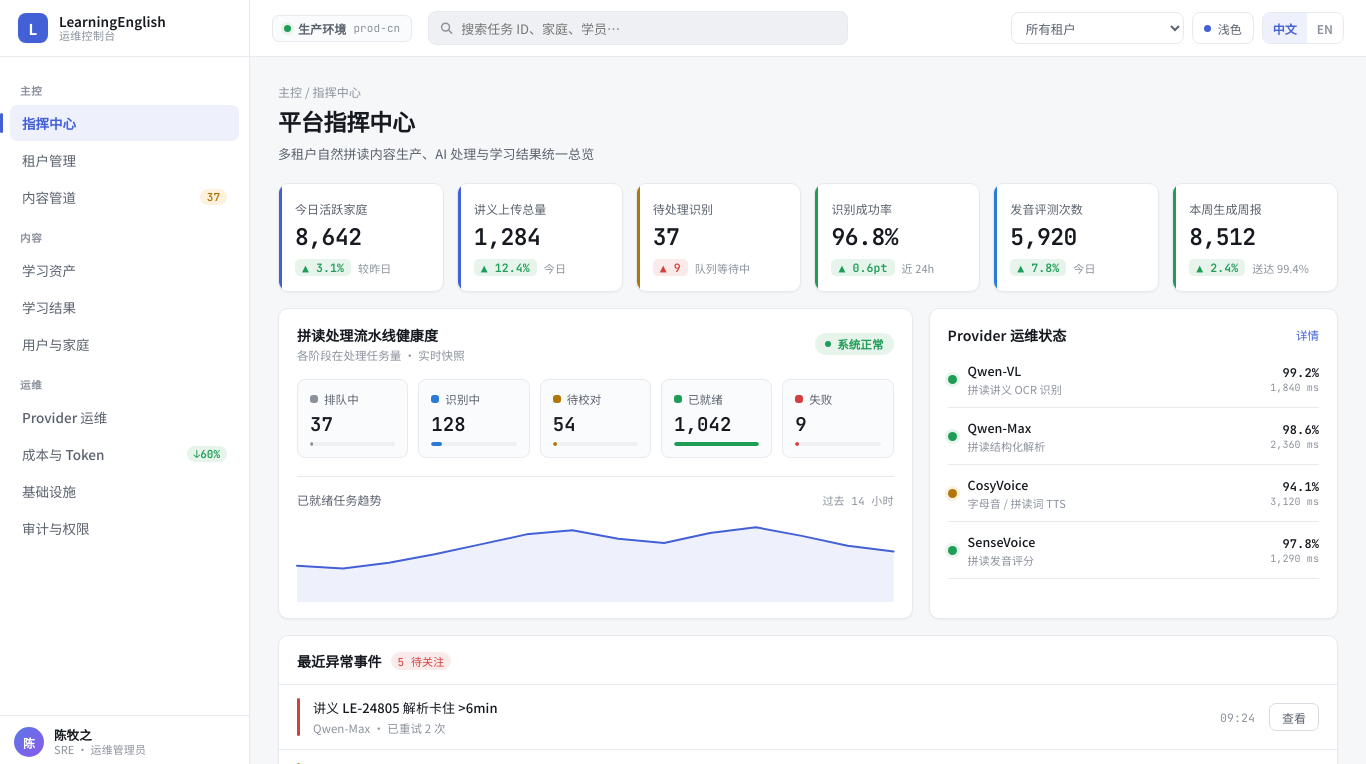
Test case: interactions › filters the family list by search query
The width and height of the screenshot is (1366, 764).
Click the button "用户与家庭" at [124, 344], box [10,326,239,362]
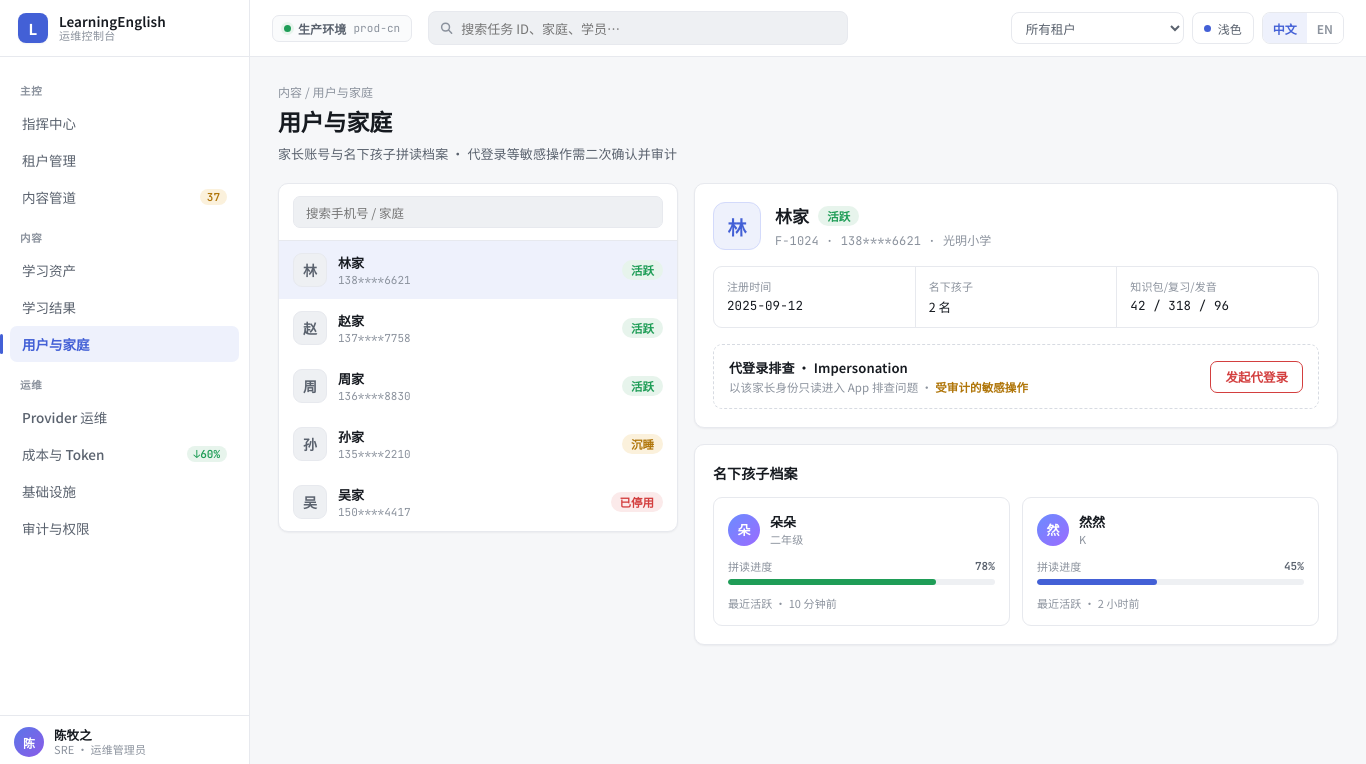
Check: the text "赵家" is shown, box [338,311,364,330]
Type "zzz" into the field named "搜索家庭" at [478, 212], box [293,196,663,228]
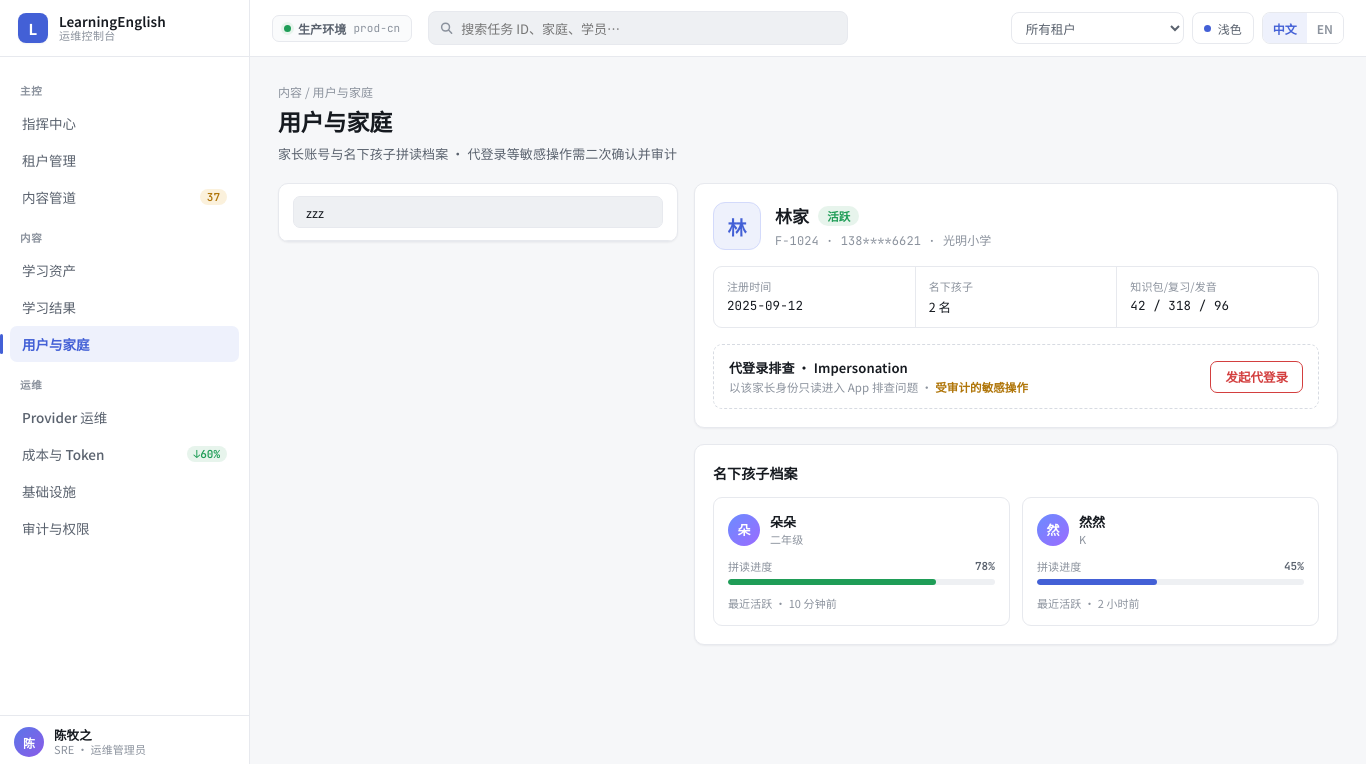
Check: the button "赵家" is gone
